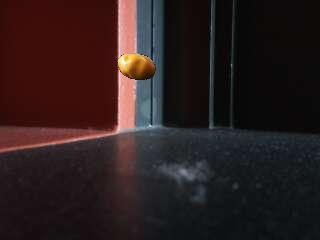Potato: (118, 54, 156, 81)
